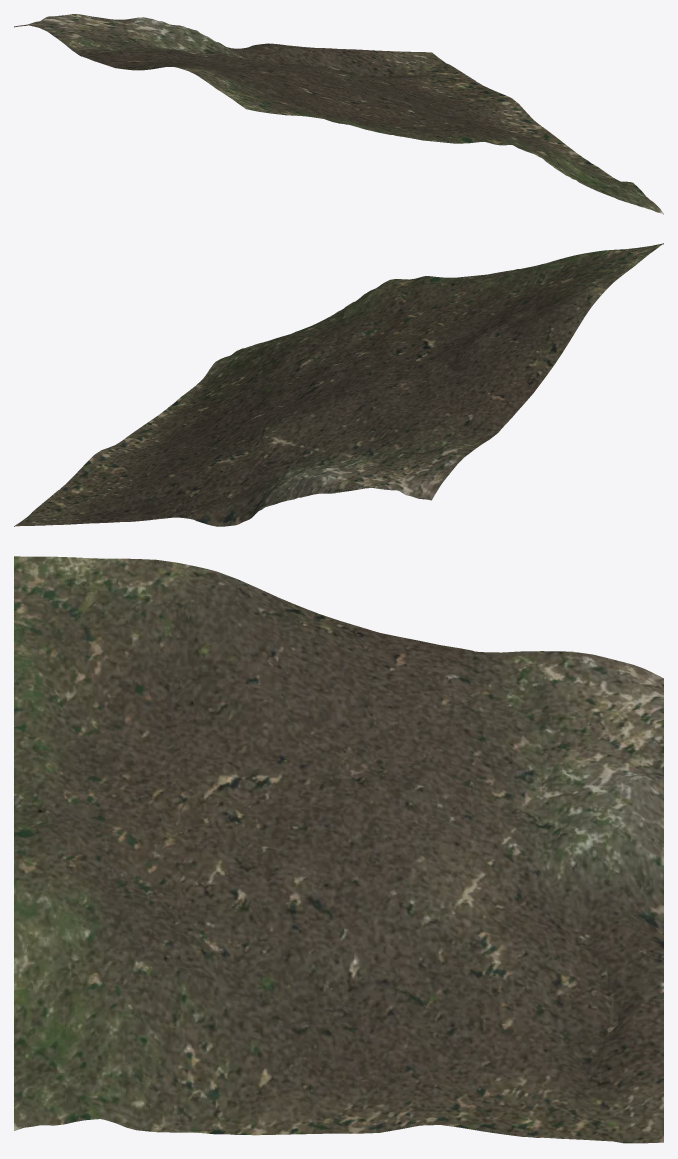
3 renders of one model, top to bottom at view 1: azimuth 30°, elevation 25°; view 2: azimuth 150°, elevation 25°; view 3: azimuth 270°, elevation 25°, orthographic. The views are drawn at different scales.
Bounding box in the file's own units: 500 × 247 × 481.
Materials: 1 (1 with a texture image).
